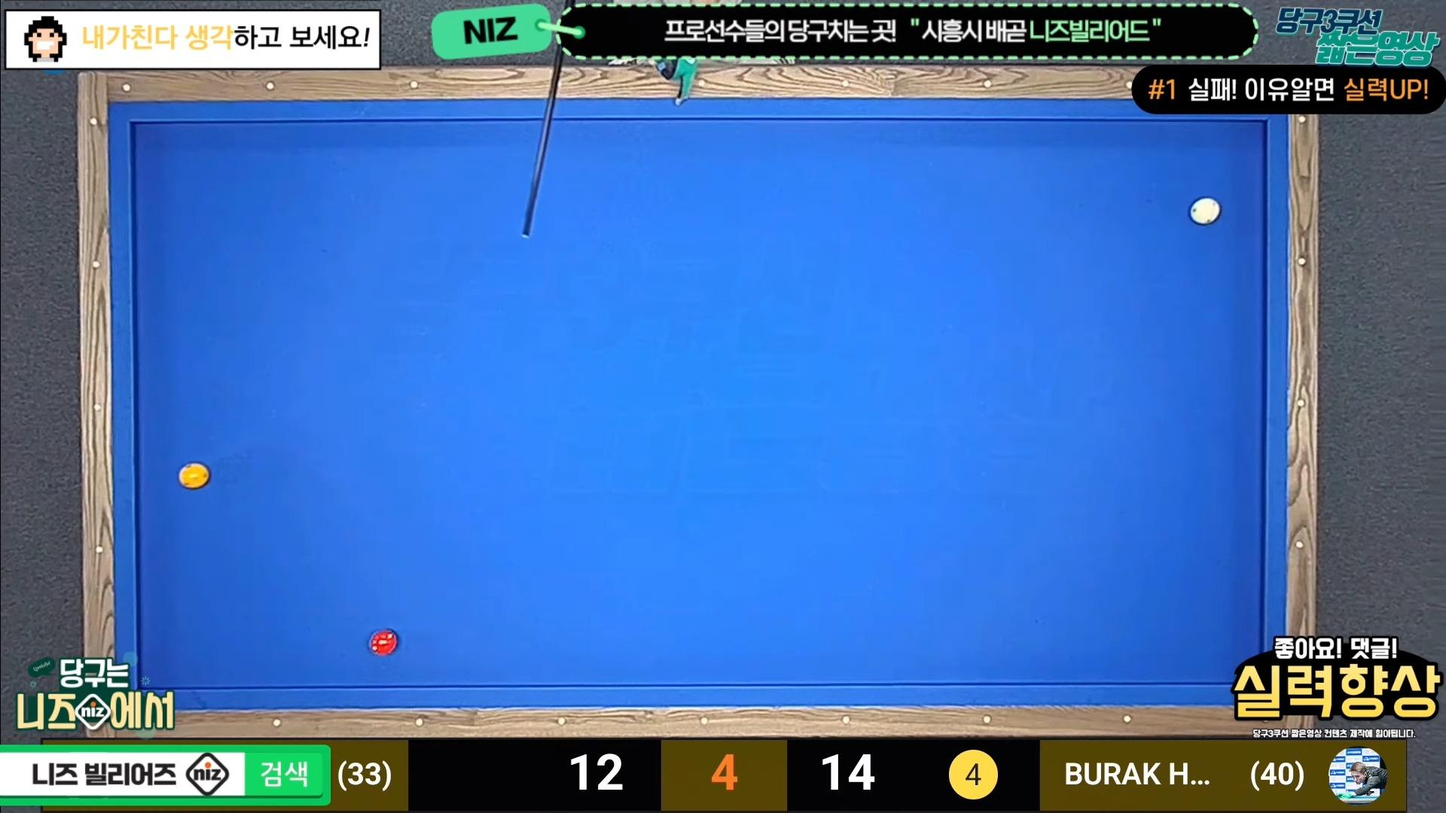Red: (370, 629, 403, 656)
White: (1188, 199, 1224, 228)
Yellow: (180, 462, 216, 489)
